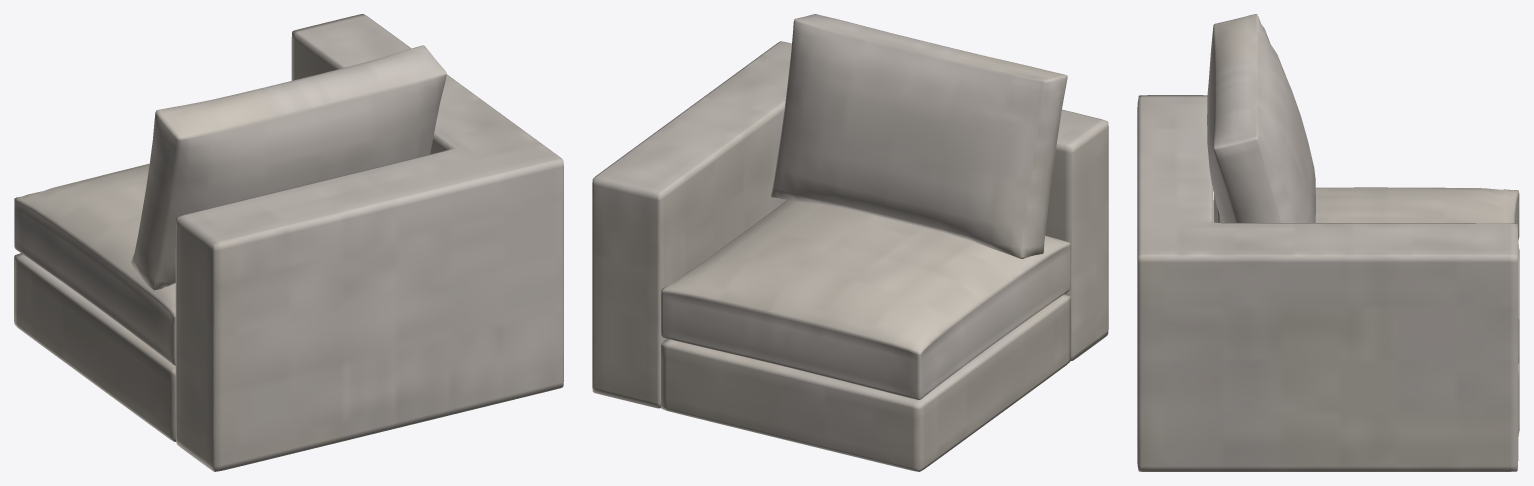
The model's file is Sofa38.glb.
The picture shows the model from 3 angles, left to right: view 1: azimuth 30°, elevation 25°; view 2: azimuth 150°, elevation 25°; view 3: azimuth 270°, elevation 25°; orthographic projection. The views are drawn at different scales.
Parts seen in each view (by area): view 1: Sofa38_model; view 2: Sofa38_model; view 3: Sofa38_model.
Boxes of the visible parts, x1=… form: Sofa38_model: x1=14, y1=14, x2=563, y2=471; Sofa38_model: x1=592, y1=14, x2=1108, y2=471; Sofa38_model: x1=1137, y1=14, x2=1519, y2=471.
Size of the model in its own units: 1.81 by 1.56 by 1.8.
Materials: 1 (1 with a texture image).
